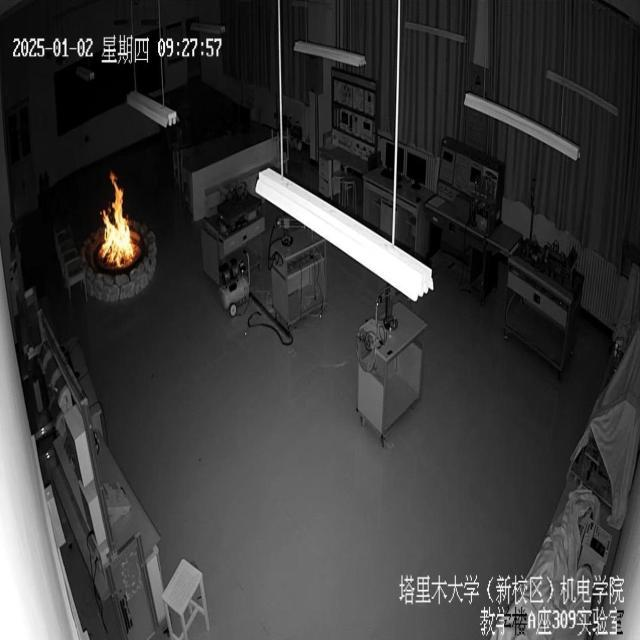smoke: (97, 170, 140, 271)
